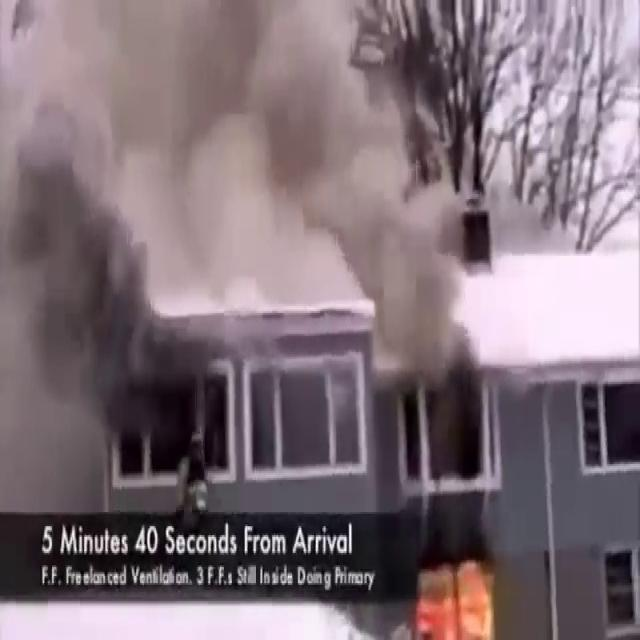Fire: (415, 562, 499, 640)
Smoke: (1, 1, 452, 310), (0, 120, 187, 508)
